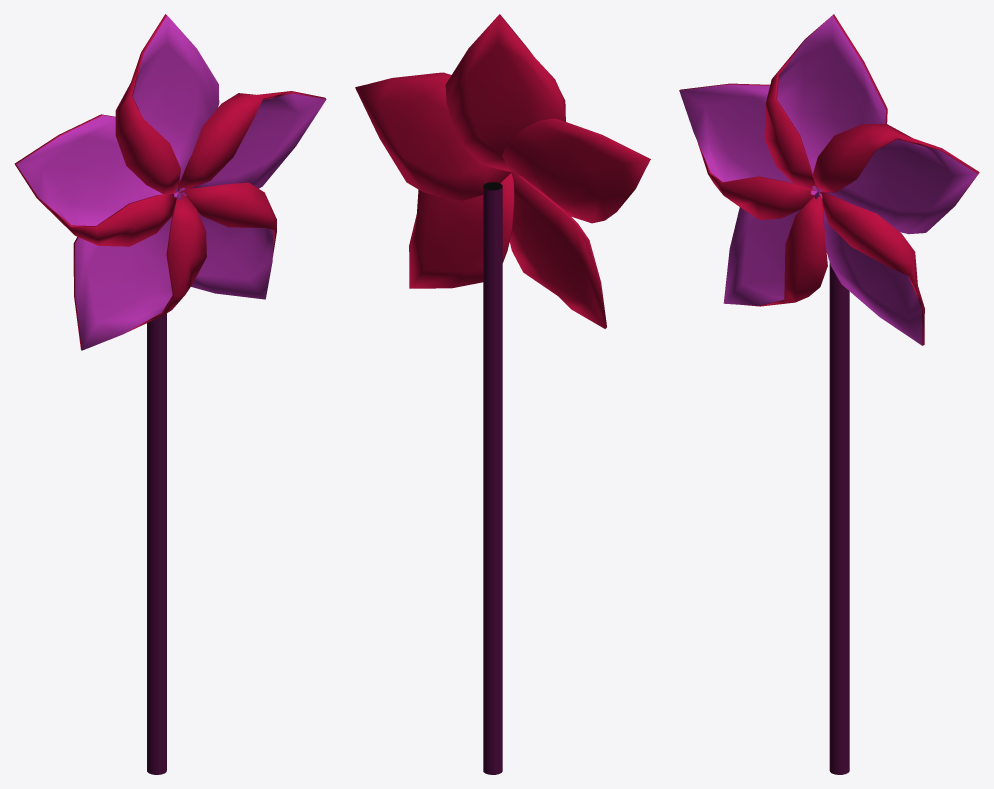
File: Pinwheel_02.fbx
The picture shows the model from 3 angles, left to right: view 1: azimuth 30°, elevation 25°; view 2: azimuth 150°, elevation 25°; view 3: azimuth 330°, elevation 25°; orthographic projection.
Visible parts, largest first — view 1: Pinwheel, Pole; view 2: Pinwheel, Pole; view 3: Pinwheel, Pole.
Part boxes in pixels (<box>): Pinwheel: <box>14,14,326,350</box>; Pole: <box>147,313,166,774</box>; Pinwheel: <box>355,14,650,328</box>; Pole: <box>483,182,502,774</box>; Pinwheel: <box>679,14,979,345</box>; Pole: <box>829,262,849,774</box>.
Size of the model in its own units: 300 by 717 by 70.31.
